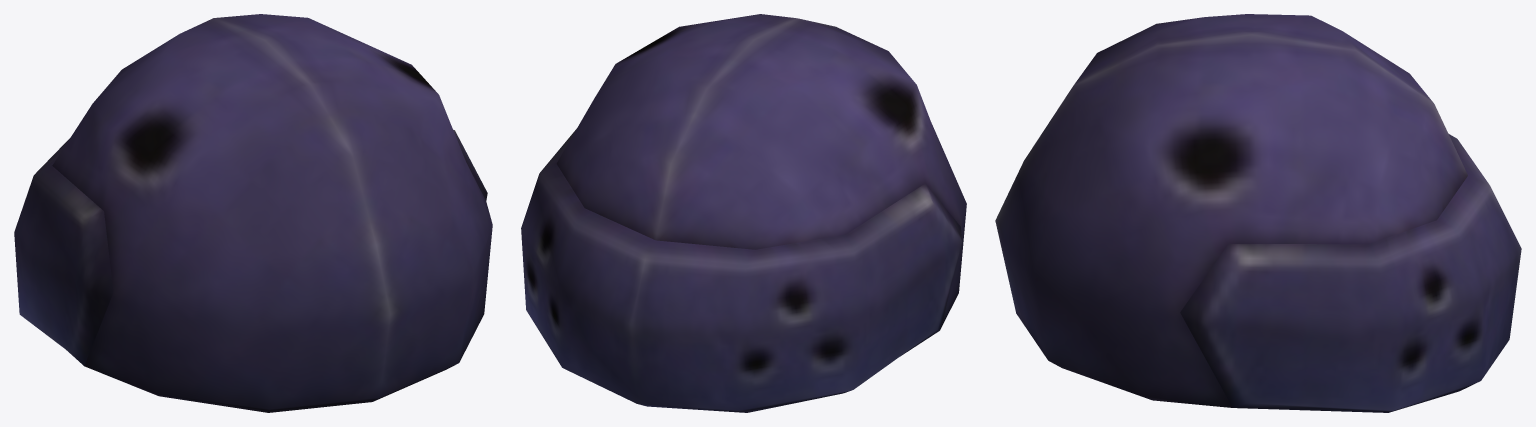
Rendered from strikeHelmetR.glb.
3 views of the same model, side by side, from view 1: azimuth 30°, elevation 25°; view 2: azimuth 150°, elevation 25°; view 3: azimuth 270°, elevation 25° (orthographic). The views are drawn at different scales.
Parts seen in each view (by area): view 1: strikeHelmetR; view 2: strikeHelmetR; view 3: strikeHelmetR.
Part boxes in pixels (<box>): strikeHelmetR: <box>14,14,492,412</box>; strikeHelmetR: <box>521,14,966,412</box>; strikeHelmetR: <box>995,14,1521,412</box>.
Bounding box in the file's own units: 0.3951 × 0.292 × 0.4407.
1 material, 1 textured.
